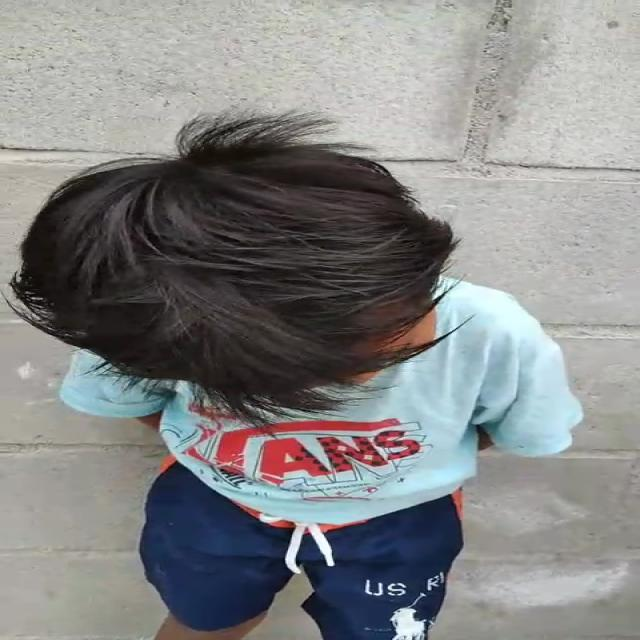9_cabeza_baja: (9, 111, 470, 431)
